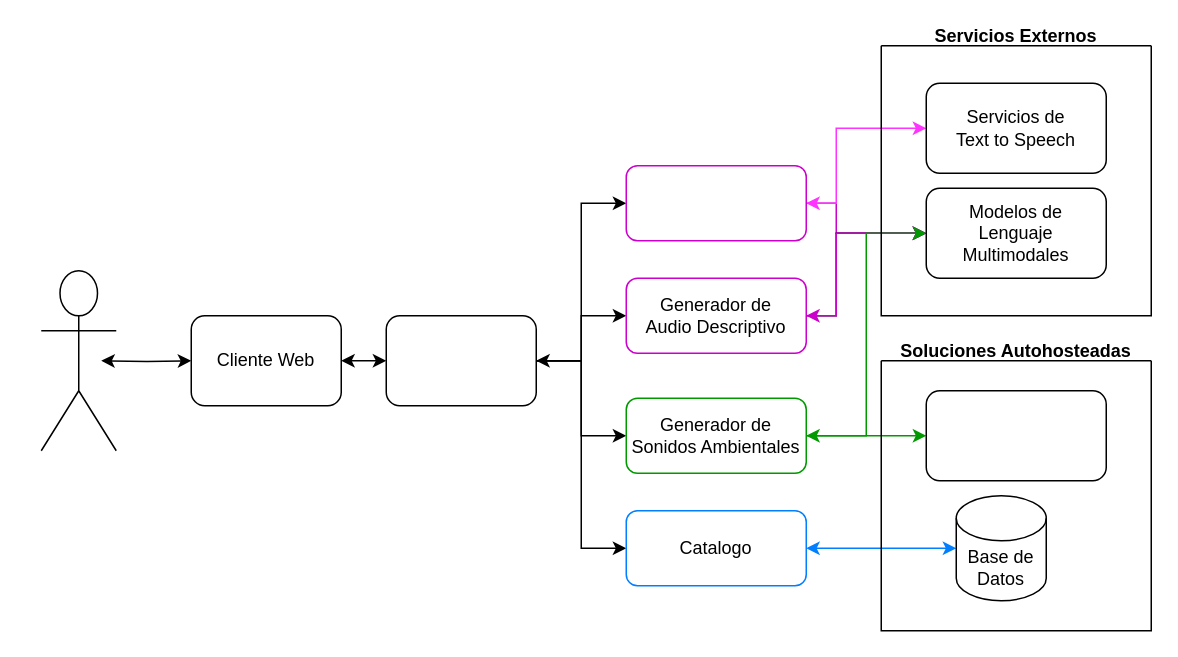
Image size: 1178x657. Some labels were removed from this diagram. Each missing label, with the centre of its shape:
"API Gateway" goes at [460,360].
"Modelos Generativos de Audio Ambiental" goes at [1015,435].
"Narrador de Contexto" goes at [715,202].
"Usuario Final" goes at [78,360].
